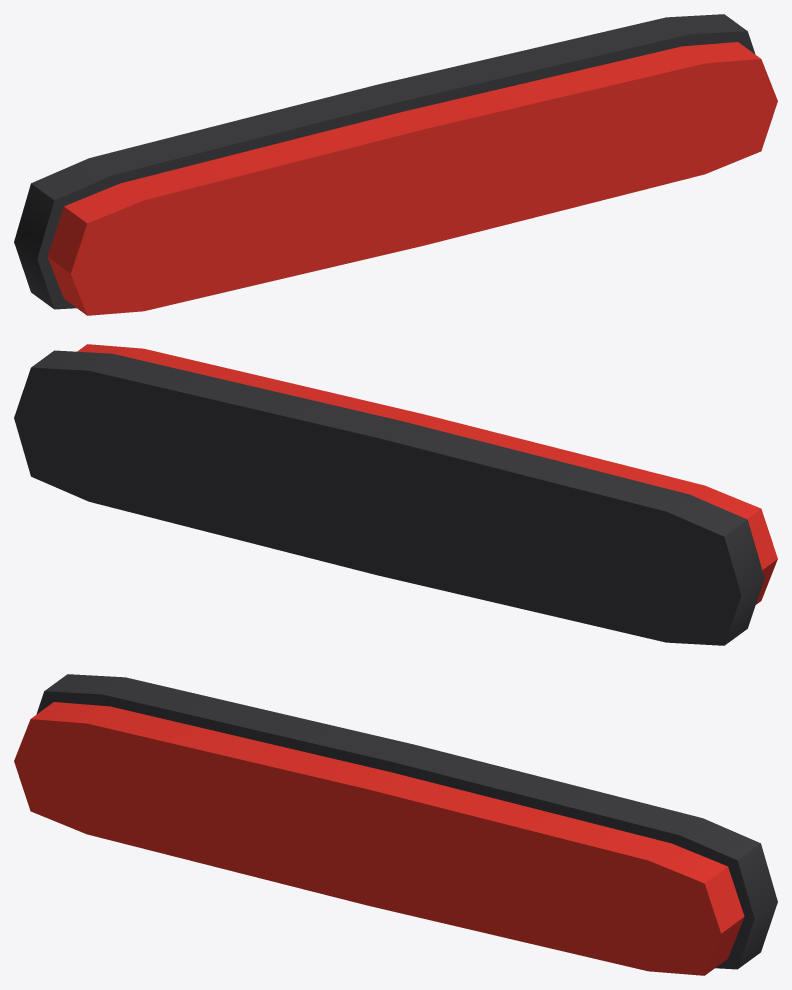
File: strip.glb
The picture shows the model from 3 angles, top to bottom: view 1: azimuth 30°, elevation 25°; view 2: azimuth 150°, elevation 25°; view 3: azimuth 330°, elevation 25°; orthographic projection.
Visible parts, largest first — view 1: lod0; view 2: lod0; view 3: lod0.
Part boxes in pixels (x1=…): lod0: x1=14, y1=14, x2=777, y2=315; lod0: x1=14, y1=344, x2=777, y2=645; lod0: x1=14, y1=674, x2=777, y2=975.
Size of what is drawn, in the model's own units: 0.144 by 0.026 by 0.016.
